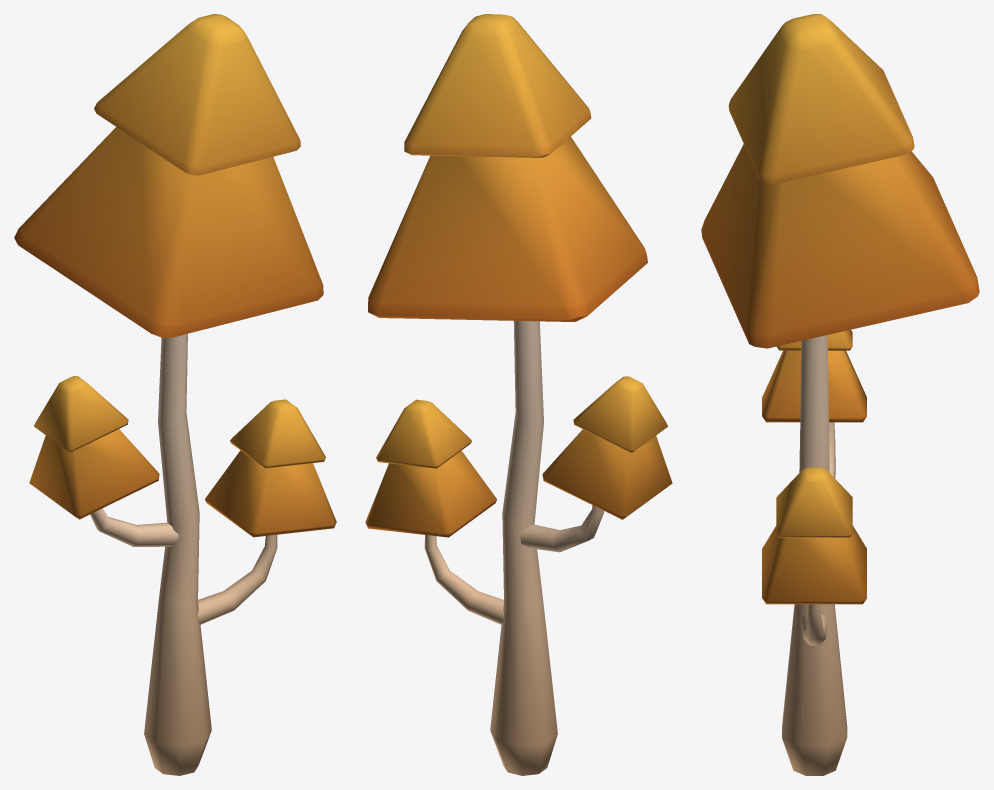
File: Tree_4_B_Color5.fbx
3 views of the same model, side by side, from view 1: azimuth 30°, elevation 25°; view 2: azimuth 150°, elevation 25°; view 3: azimuth 270°, elevation 25° (orthographic). The views are drawn at different scales.
Parts seen in each view (by area): view 1: Tree_4_B_Color5; view 2: Tree_4_B_Color5; view 3: Tree_4_B_Color5.
Boxes of the visible parts, x1,y1,x2,y2 form: Tree_4_B_Color5: (14,14,336,775); Tree_4_B_Color5: (365,14,672,775); Tree_4_B_Color5: (701,14,979,775).
Bounding box in the file's own units: 2.57 × 6.94 × 2.27.
